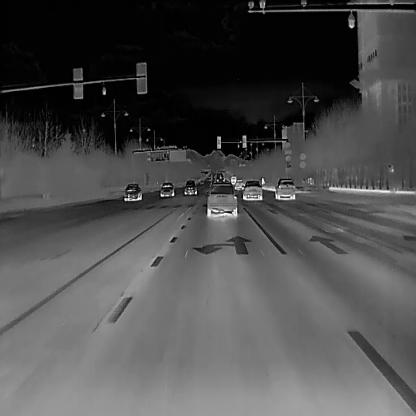bus: (231, 175, 236, 183)
car: (207, 181, 235, 215), (242, 178, 262, 201), (274, 177, 294, 198), (123, 180, 140, 201), (182, 178, 196, 194), (160, 180, 173, 196)
